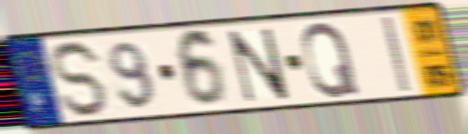6: (173, 26, 230, 113)
9: (106, 38, 158, 111)
I: (379, 14, 413, 95)
N: (226, 25, 292, 105)
Q: (299, 19, 362, 101)
S: (50, 38, 111, 121)
